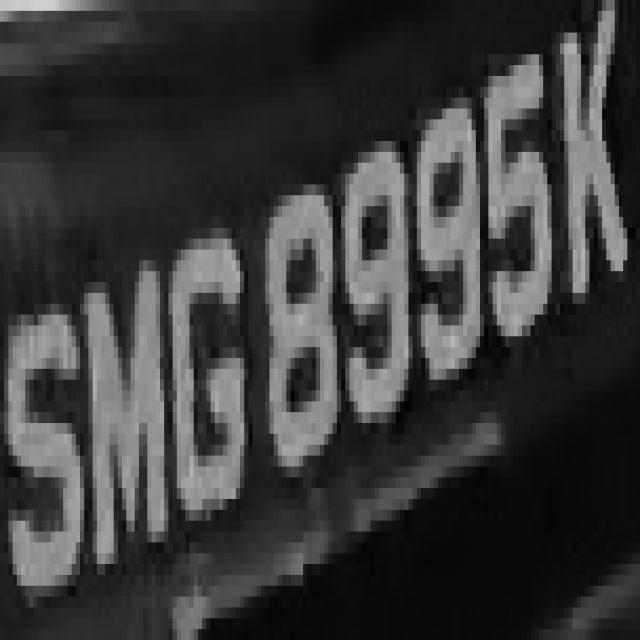5: (484, 43, 564, 390)
8: (257, 163, 337, 477)
9: (332, 141, 417, 488), (408, 87, 488, 423)
G: (164, 195, 253, 553)
K: (560, 11, 636, 336)
M: (80, 228, 173, 607)
S: (0, 293, 80, 618)
